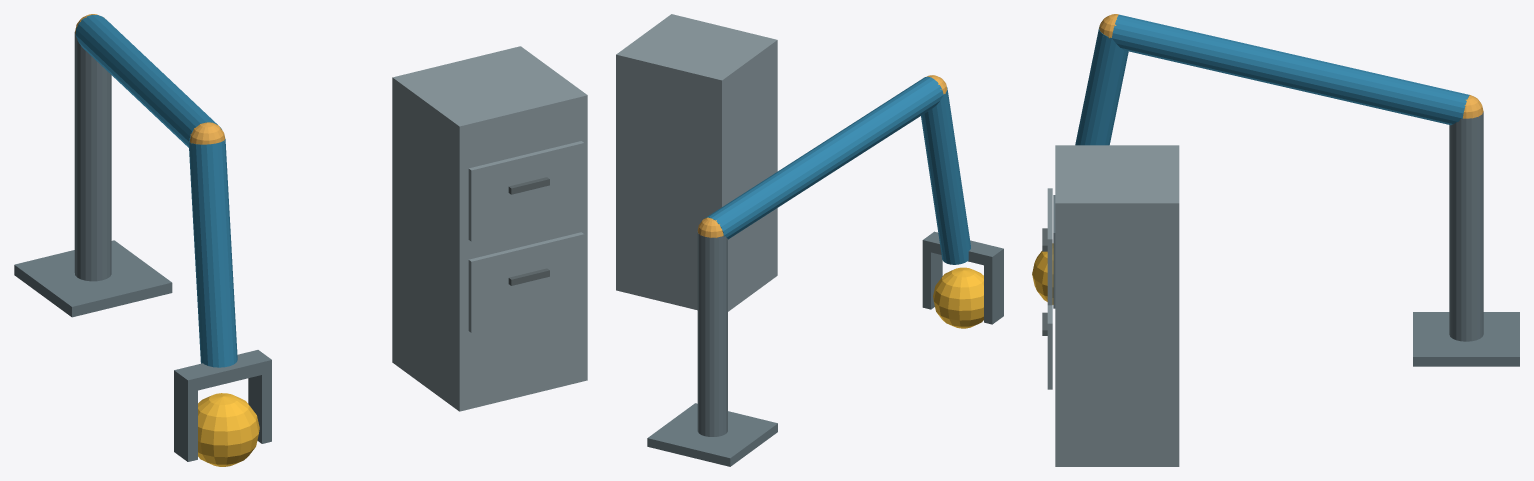
3 renders of one model, left to right at view 1: azimuth 30°, elevation 25°; view 2: azimuth 150°, elevation 25°; view 3: azimuth 270°, elevation 25°, orthographic. The views are drawn at different scales.
Visible parts, largest first — view 1: cabinet_1 body, fixed post, moving link 2, cabinet_1 drawer front, cabinet_1 drawer front.001, pedestal, moving link 1, ball ball_1, gripper bridge, gripper finger -1, gripper finger 1, joint 2; view 2: cabinet_1 body, moving link 1, fixed post, moving link 2, pedestal, ball ball_1, gripper finger -1, gripper bridge, gripper finger 1, joint 1; view 3: cabinet_1 body, moving link 1, fixed post, pedestal, moving link 2, ball ball_1, cabinet_1 drawer front.001, cabinet_1 drawer front.
Part boxes in pixels (x1,y1,x2,y2): cabinet_1 body: [392, 46, 587, 411]; fixed post: [74, 31, 111, 281]; moving link 2: [189, 139, 237, 367]; cabinet_1 drawer front: [468, 232, 584, 332]; cabinet_1 drawer front.001: [468, 141, 584, 241]; pedestal: [14, 240, 172, 317]; moving link 1: [75, 14, 221, 147]; ball ball_1: [198, 393, 259, 466]; gripper bridge: [174, 350, 271, 392]; gripper finger -1: [174, 383, 197, 461]; gripper finger 1: [248, 372, 271, 443]; joint 2: [189, 122, 225, 144]; cabinet_1 body: [616, 14, 777, 311]; moving link 1: [705, 76, 943, 239]; fixed post: [697, 232, 727, 436]; moving link 2: [921, 87, 970, 264]; pedestal: [647, 403, 777, 466]; ball ball_1: [933, 267, 983, 328]; gripper finger -1: [984, 259, 1003, 324]; gripper bridge: [922, 231, 1003, 267]; gripper finger 1: [922, 250, 942, 309]; joint 1: [697, 217, 723, 237]; cabinet_1 body: [1055, 145, 1179, 466]; moving link 1: [1112, 14, 1469, 125]; fixed post: [1449, 112, 1483, 341]; pedestal: [1413, 312, 1519, 366]; moving link 2: [1075, 27, 1128, 145]; ball ball_1: [1032, 243, 1053, 304]; cabinet_1 drawer front.001: [1047, 188, 1052, 305]; cabinet_1 drawer front: [1047, 305, 1052, 389].
Size of the model in its own units: 1 by 0.7591 by 1.14.
